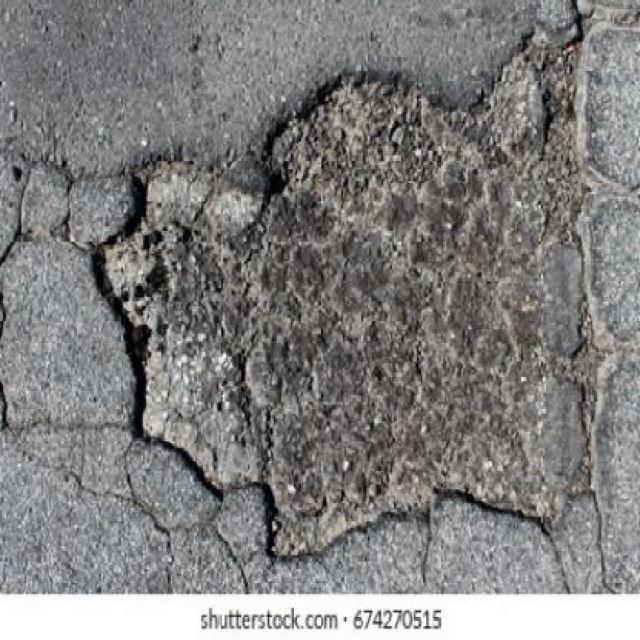Pothole: (68, 26, 616, 572)
